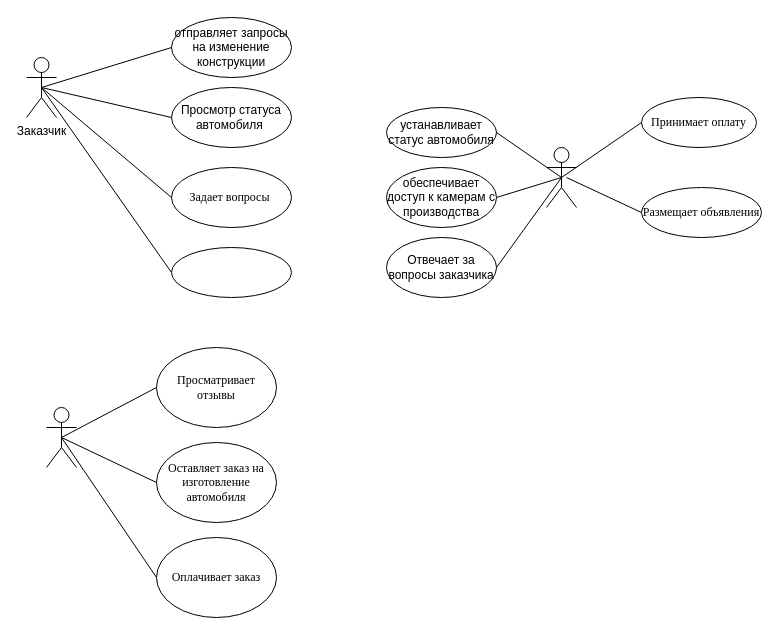
Some shapes in this 779 by 635 pixel diagram are drawn without their labels. Here are the shapes that lost their labels. From the top down, the centre of each, then its label:
point (561, 177): Администратор
point (231, 272): Оставляет отзывы
point (61, 437): Гость
